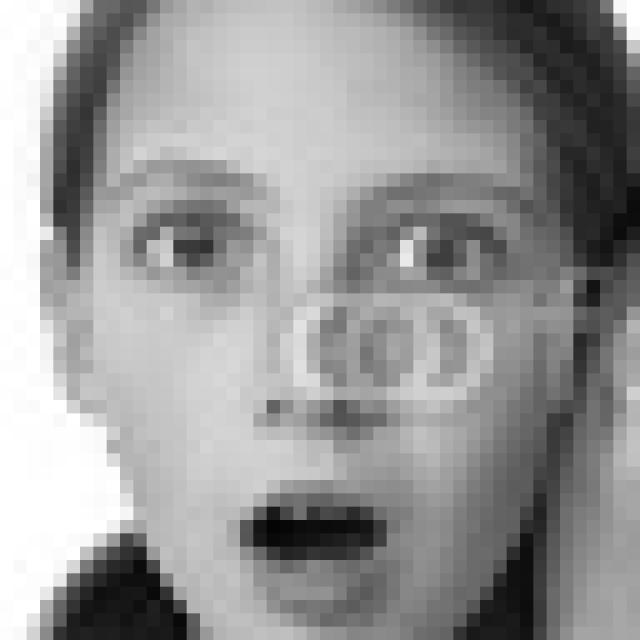surprise: (88, 143, 553, 614)
